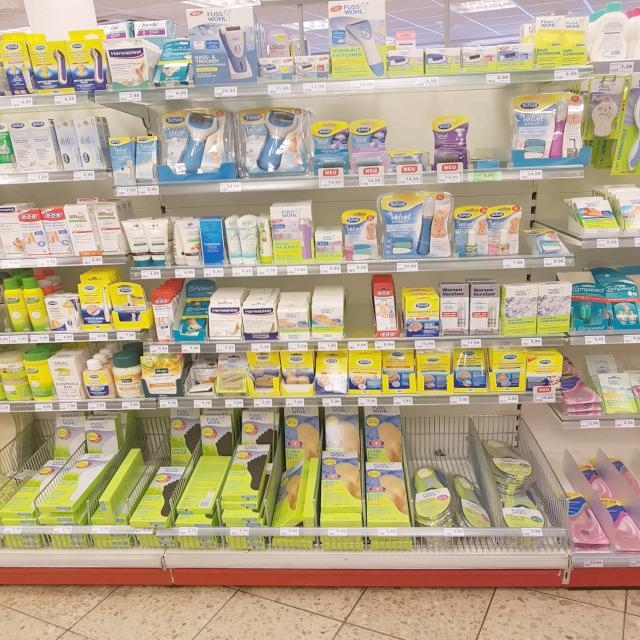empty_space: (469, 98, 511, 162)
